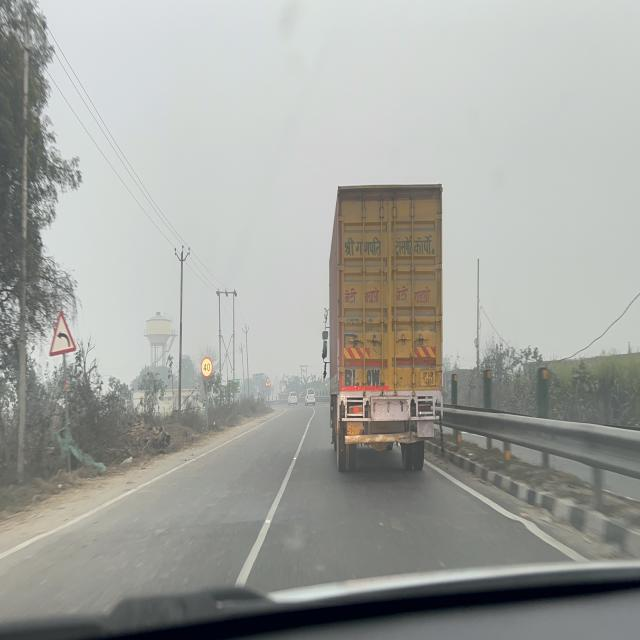LEFT_TURN_AHEAD: (48, 310, 76, 358)
SCHOOL_AHEAD: (265, 377, 271, 387)
SPEED_LIMIT_40: (200, 356, 213, 378)
